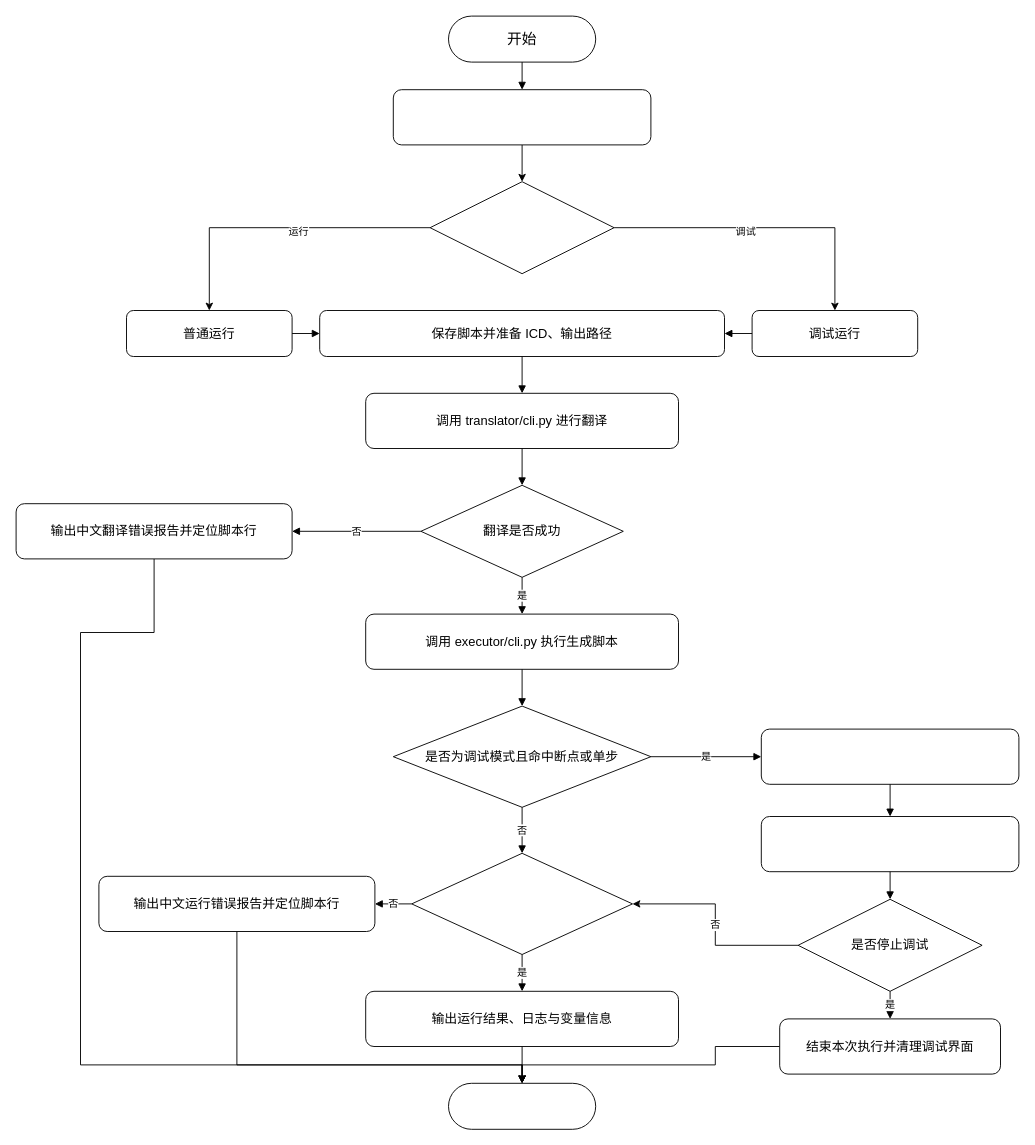
Image size: 1035x1145. Some labels were removed from this diagram. The shapes that lost their labels are listed below. From the top down, each one's centre as x and y in pixels, then its label:
At [521,117]: "编写或打开中文测试脚本".
At [521,227]: "选择运行方式".
At [889,756]: "暂停执行，显示当前行、变量和日志".
At [889,844]: "接收继续 / 单步 / 停止命令".
At [521,903]: "执行是否成功".
At [522,1105]: "结束".
